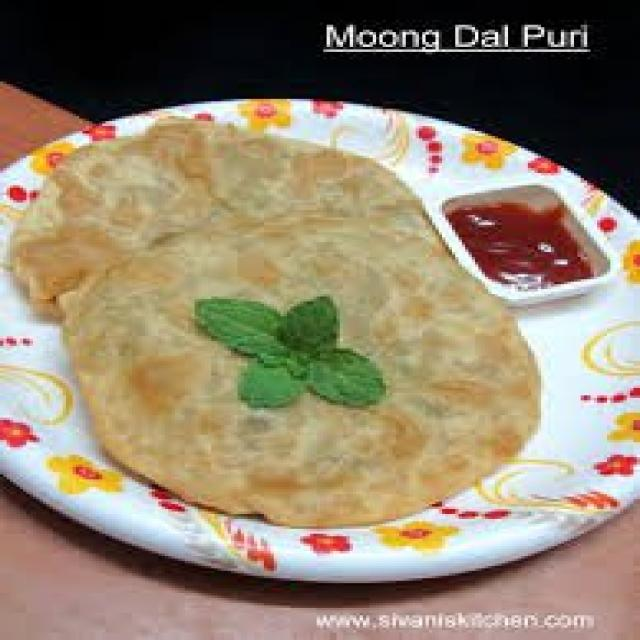puri: (14, 99, 444, 577)
